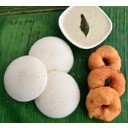idly: (37, 68, 80, 117), (4, 56, 45, 101), (29, 36, 72, 73)
